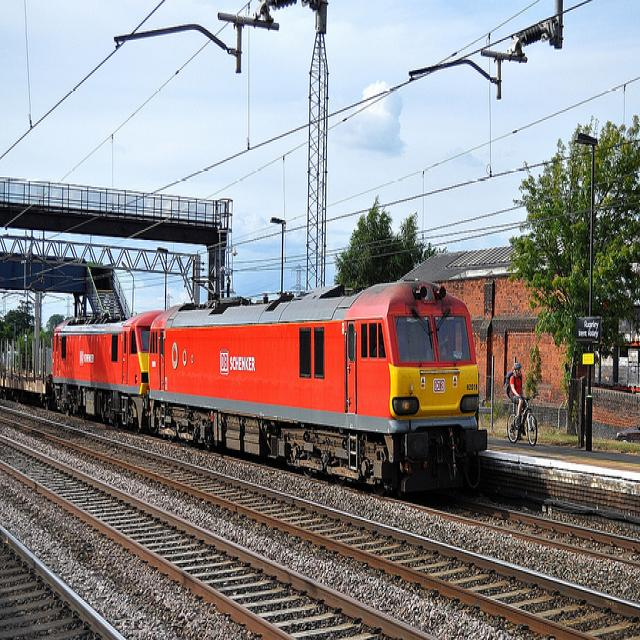Vehicle: (614, 422, 640, 444)
